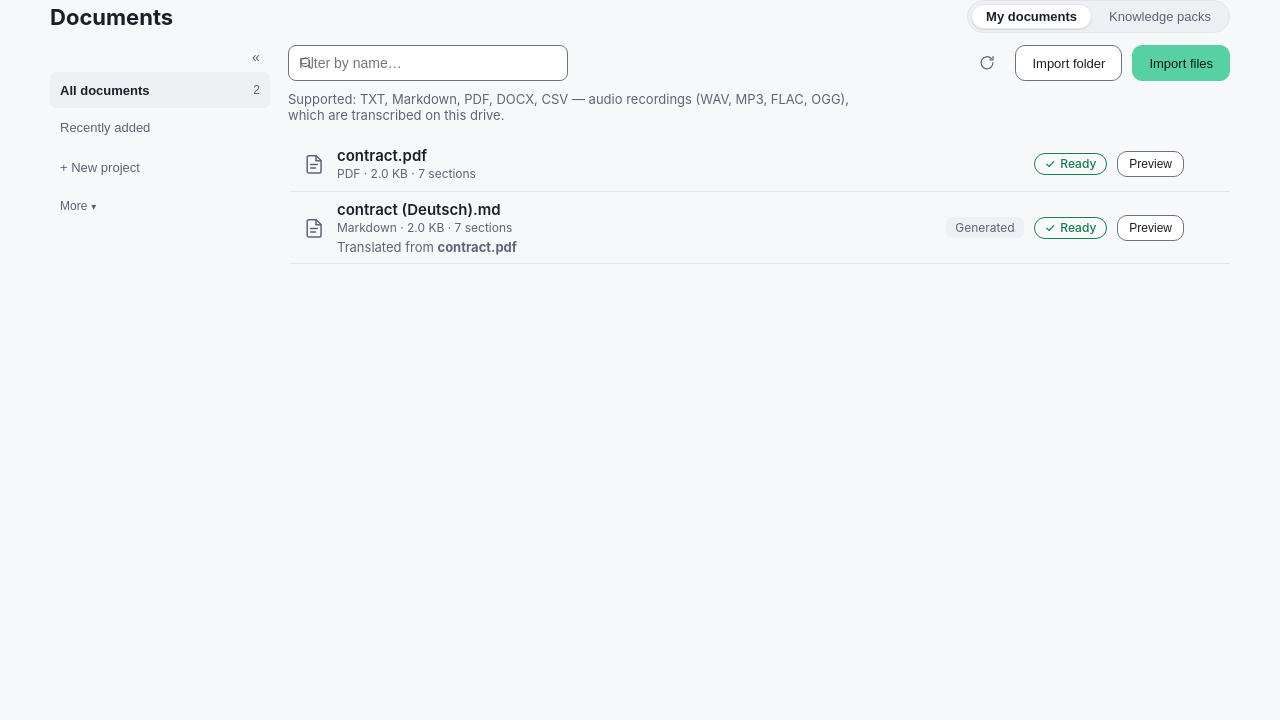
DocumentsScreen — Translate action (Phase 34, TG-3 selects) › the preview shows the provenance line for a translated document
The width and height of the screenshot is (1280, 720).
expect the text "contract (Deutsch).md" is shown: met, box [337,200,501,219]
What coordinates should you click on to do the following:
click the button "Preview" in the row of "Generated"
I would click on:
 (1151, 228)
Its box is [1117,214,1184,240].
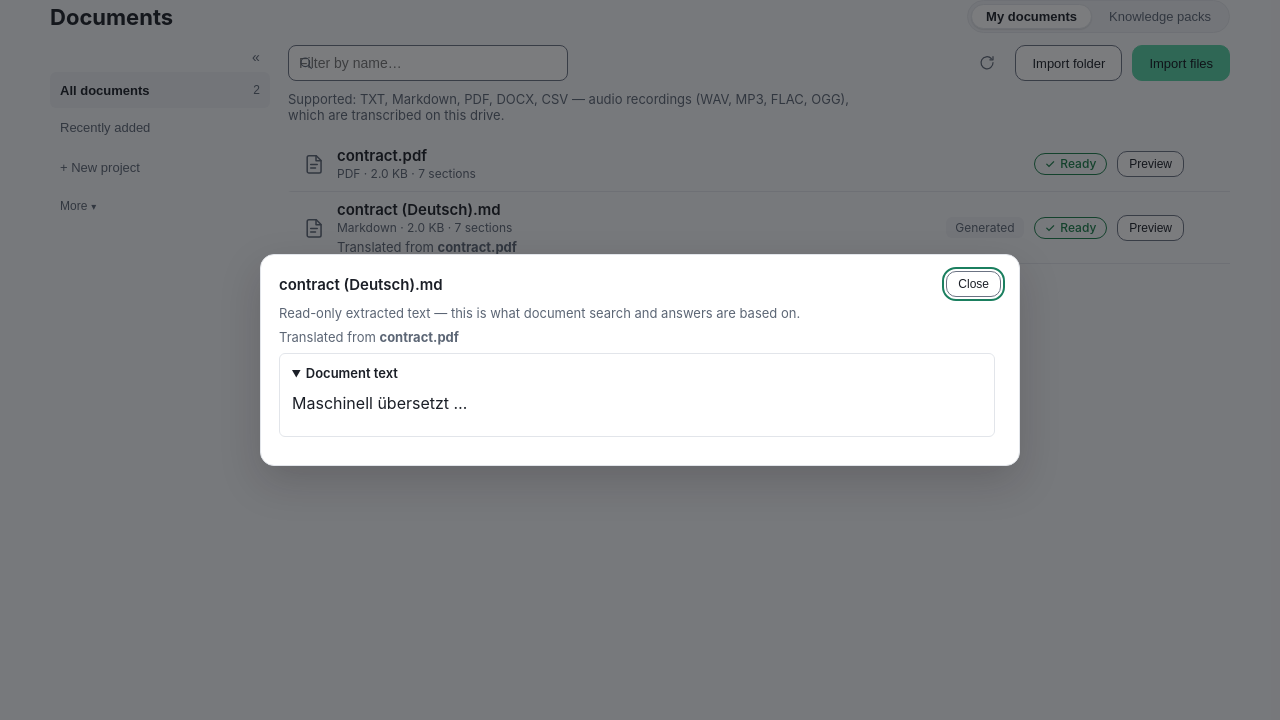
expect the text "Maschinell übersetzt …" is shown: met, box [292,393,467,413]
